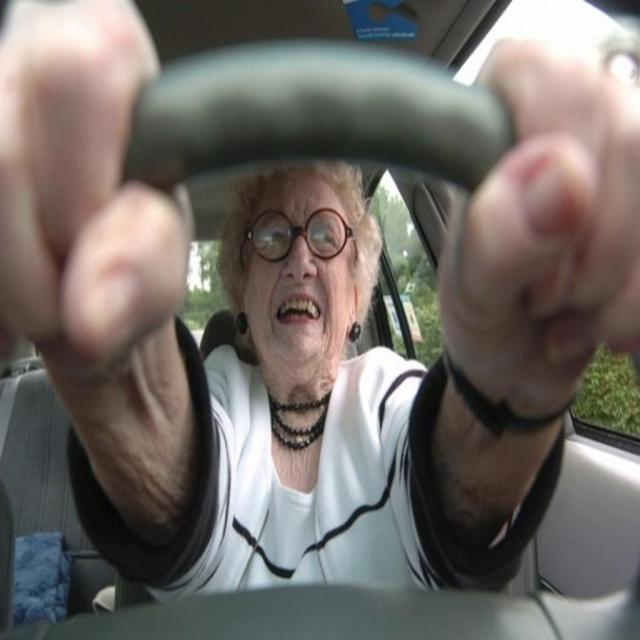Face: (242, 166, 362, 397)
